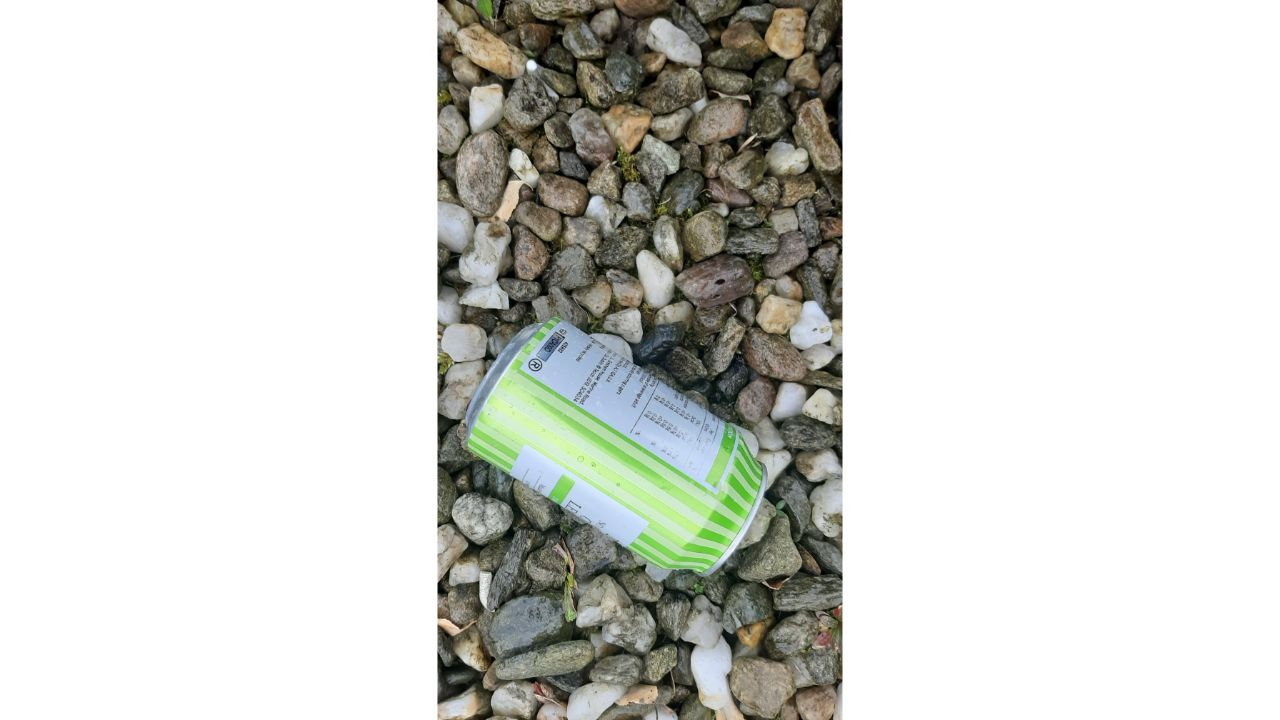Can: (450, 301, 781, 594)
